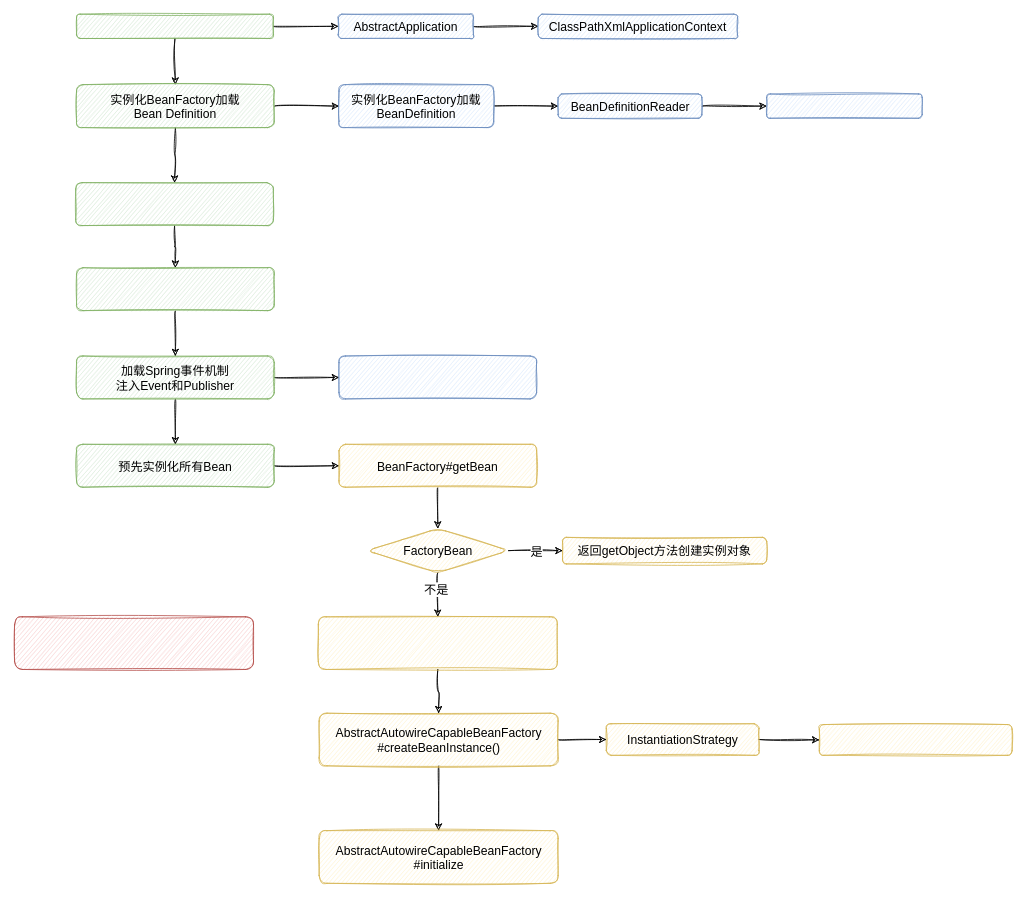
This 1026x897 diagram has some shape labels left out. Each missing label, with the centre of its shape:
"AbstractAutowireCapableBeanFactory #createBean()" goes at [437,642].
"ApplicationContext#refresh()" goes at [174,25].
"BeanFactoryPostProcessor 在Bean实例化前执行" goes at [175,289].
"DefaultSingletonBeanRegistry" goes at [915,739].
"SimpleApplicationEventMulticaster 广播事件" goes at [437,377].
"XmlBeanDefinitionReader" goes at [844,105].
"各种Aware接口 包装中BeanPostProcessor对象中" goes at [174,204].
